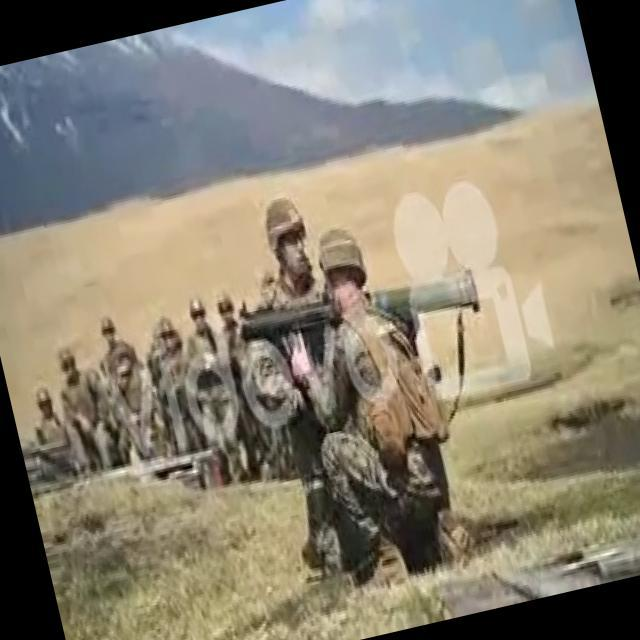rocket: (238, 254, 482, 362)
